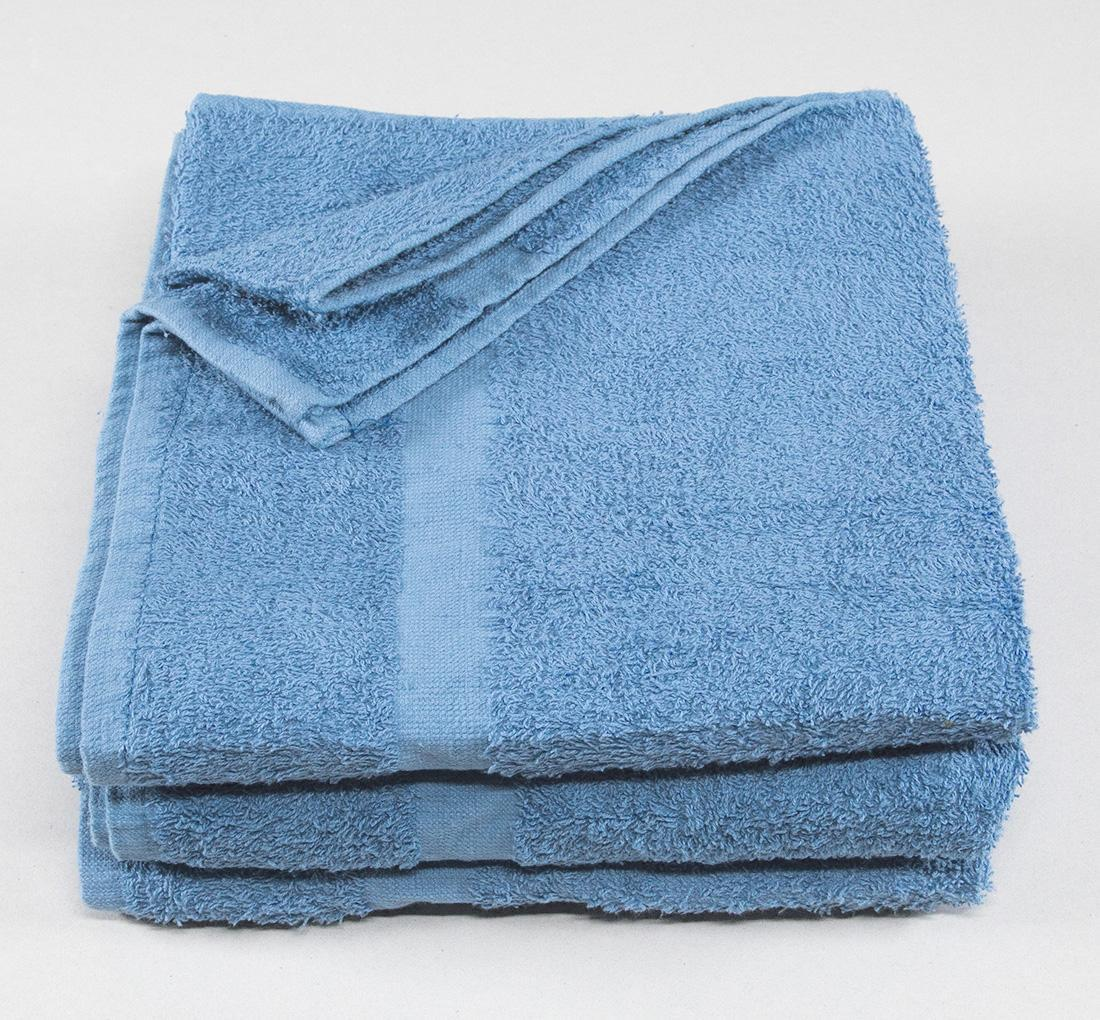towel: (58, 72, 1030, 1015)
